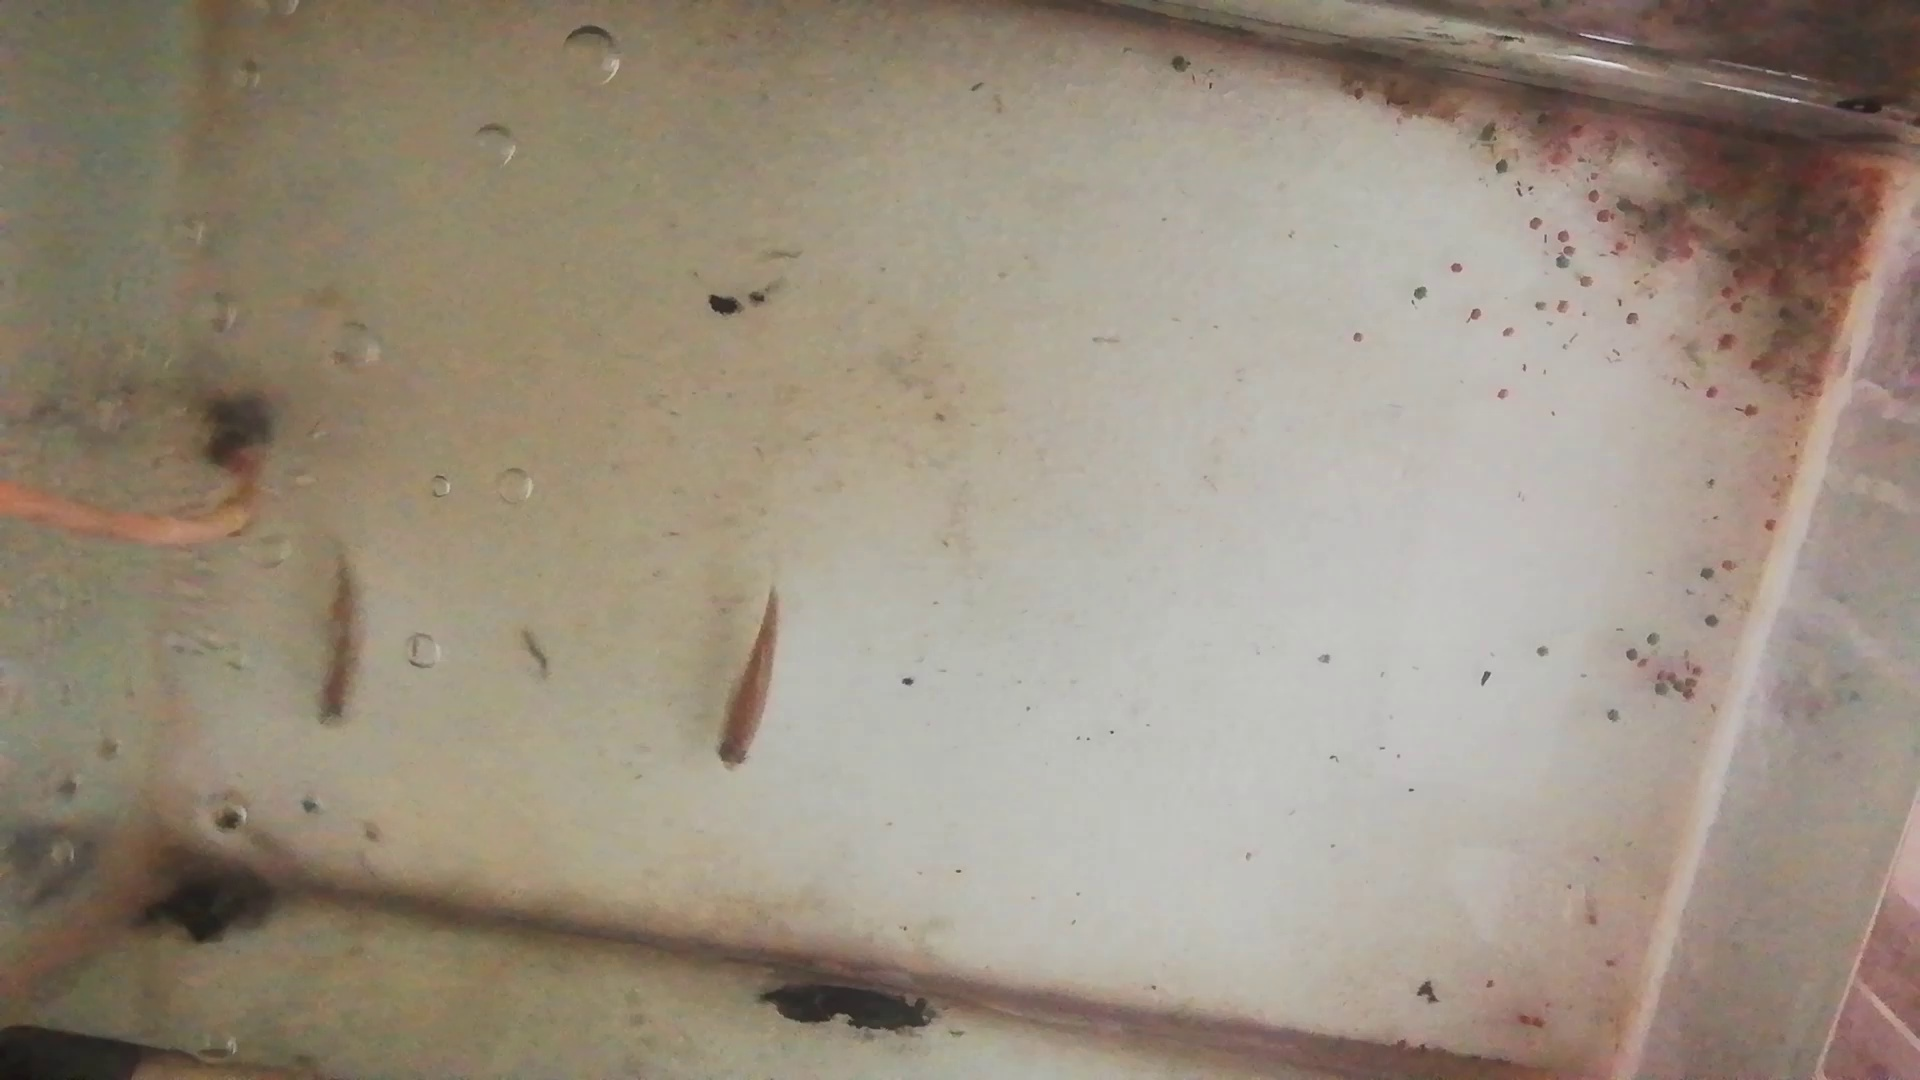fish: (713, 585, 779, 777), (314, 535, 373, 735)
